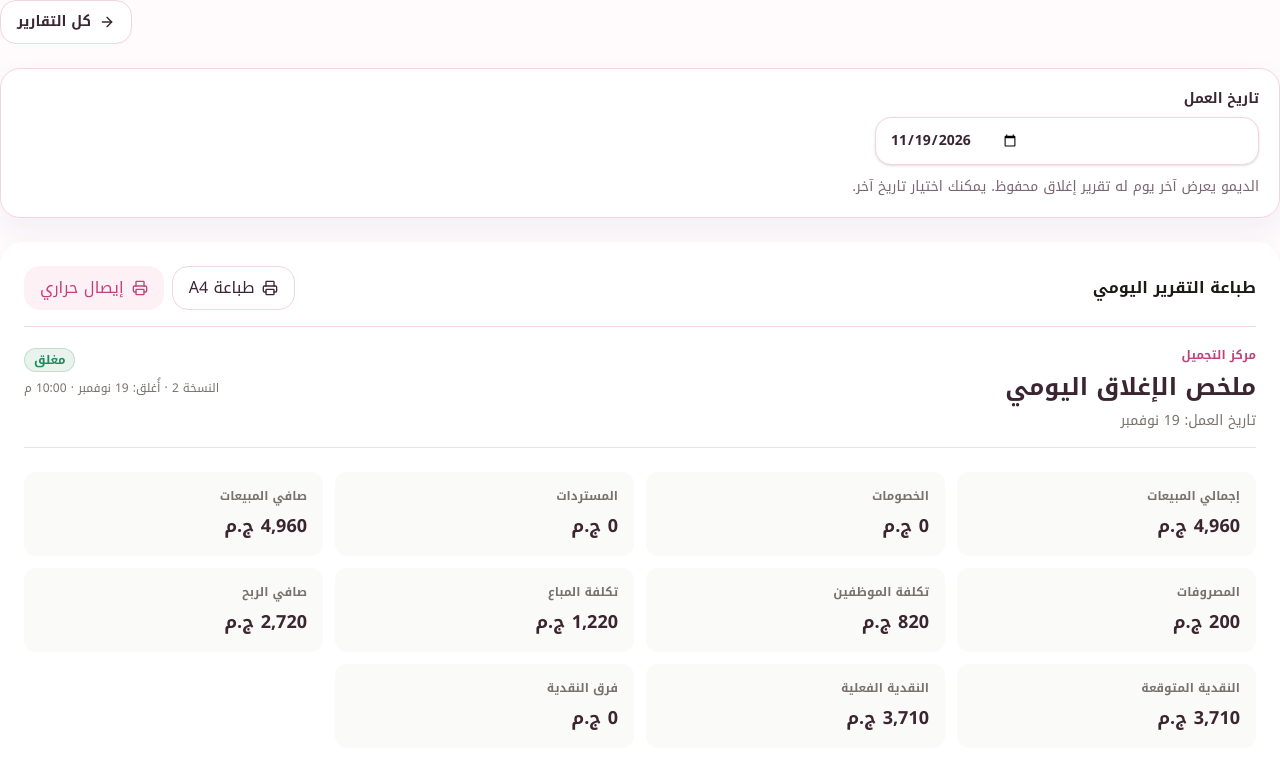
Test: demo daily closing report › honors manual date selection and does not mislabel a missing day with another day's report
The image size is (1280, 770).
Expected: the heading "ملخص الإغلاق اليومي" is shown, [1005,371,1256,403]
Step 1. Type "2026-11-20" into the date field labelled "تاريخ العمل" → {"x": 1067, "y": 141}, box [875,117,1259,165]
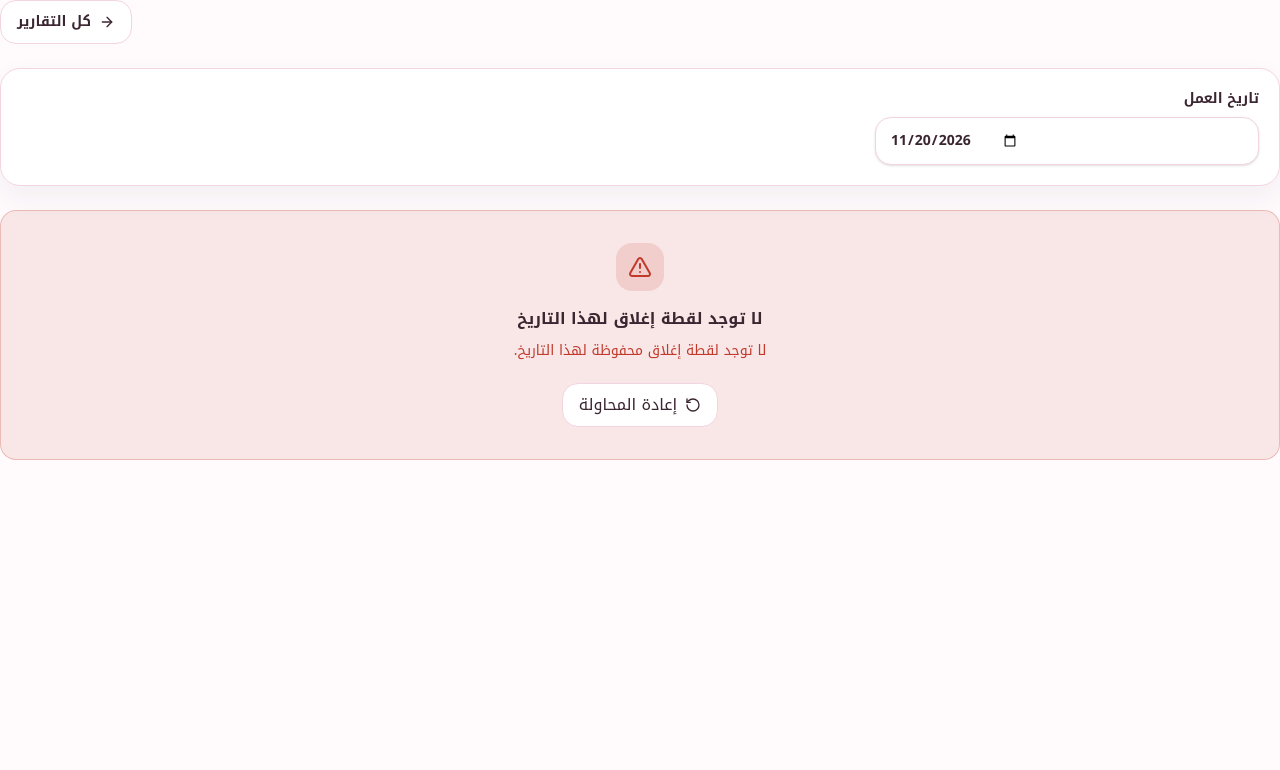
Now the heading "لا توجد لقطة إغلاق لهذا التاريخ" is shown, box [517,307,763,331]
Now the heading "ملخص الإغلاق اليومي" is gone
